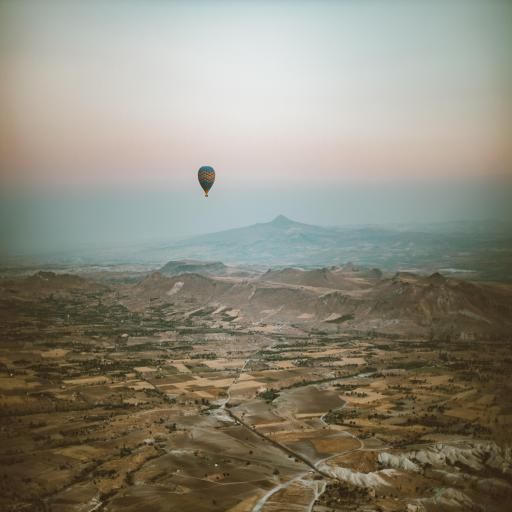hot air ballon: (193, 161, 219, 203)
